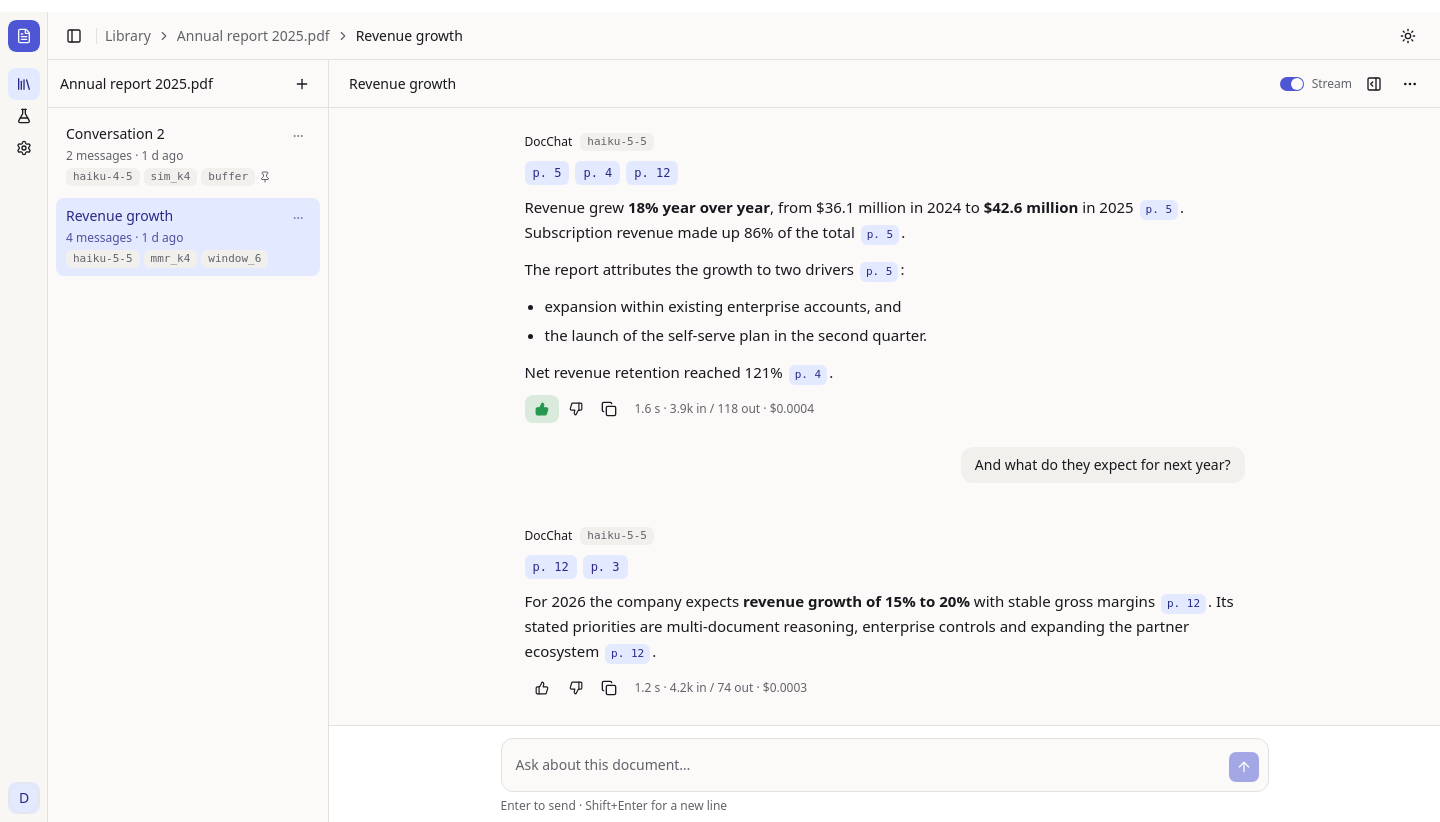
Scenario: streaming › stops on demand and keeps the partial answer
The image size is (1440, 822).
(page scrolled)
Expected: the element named "Messages" is shown, [500,108,1268,725]
Type "Tell me more" into the text box labelled "Ask about this document" at (864, 765), box [510,747,1220,783]
Then press Enter
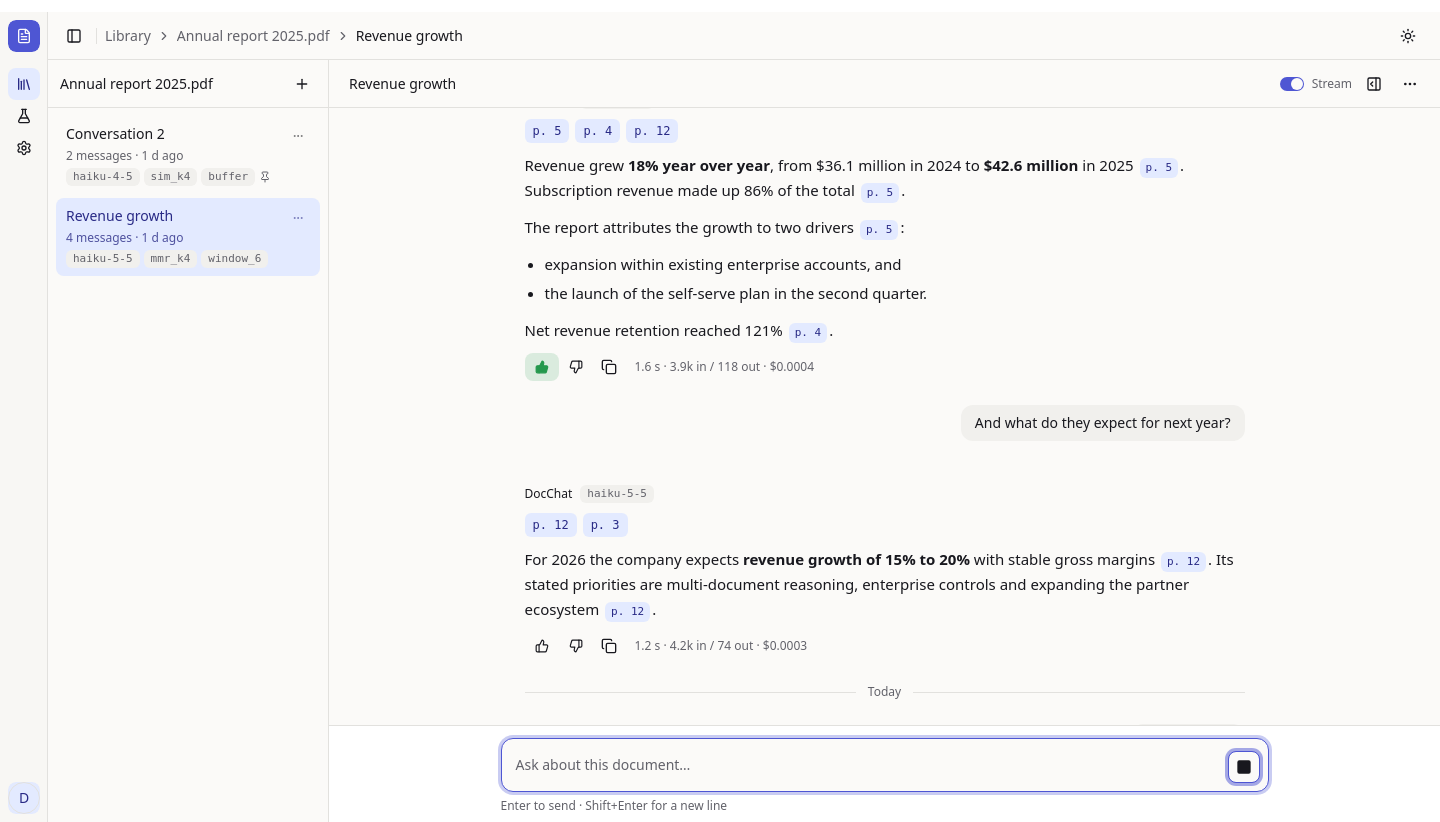
Click the button named "Stop generating" at (1244, 767), box [1228,751,1260,783]
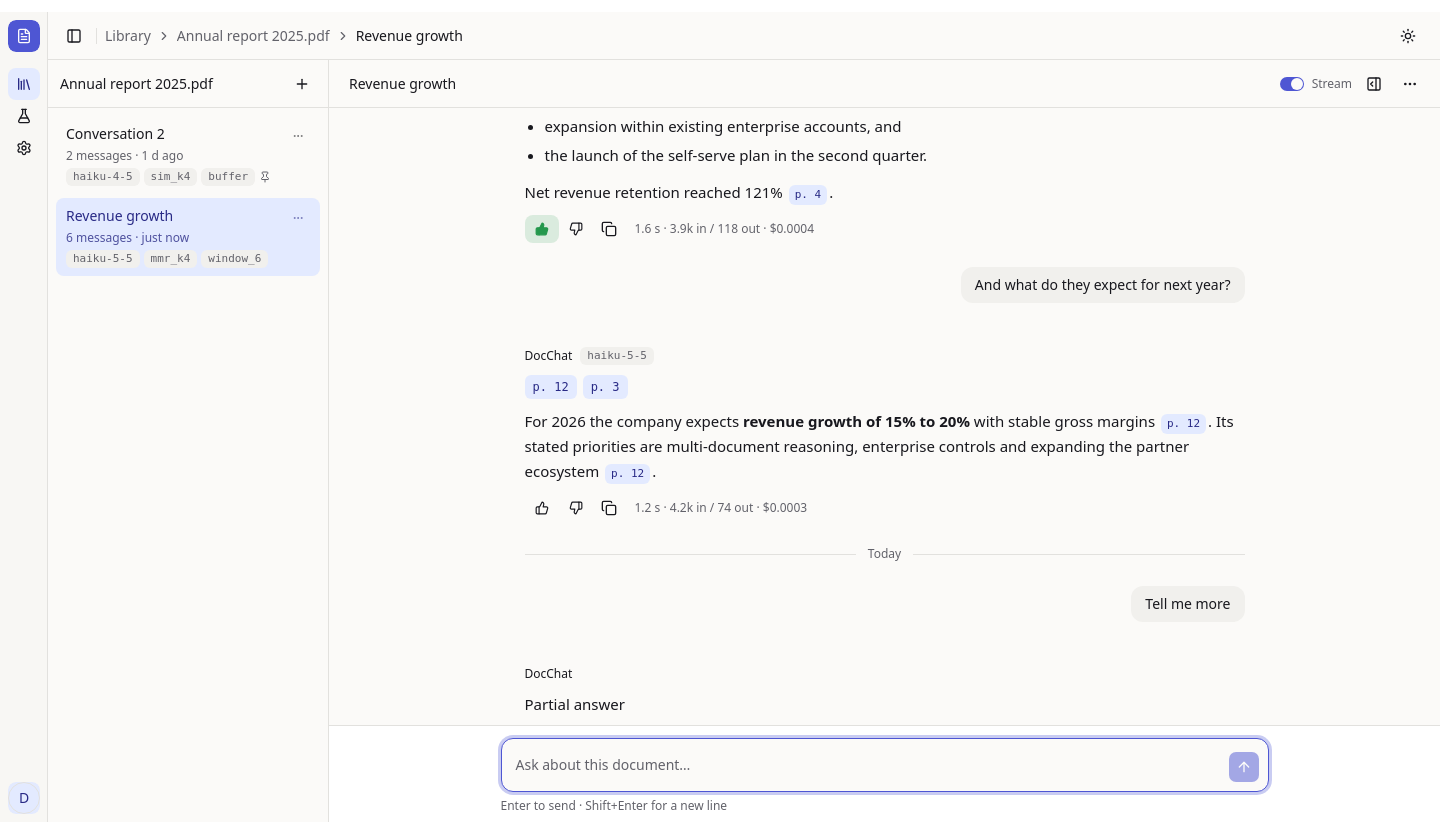
Expected: the button named "Send message" is shown, [1228,751,1260,783]
